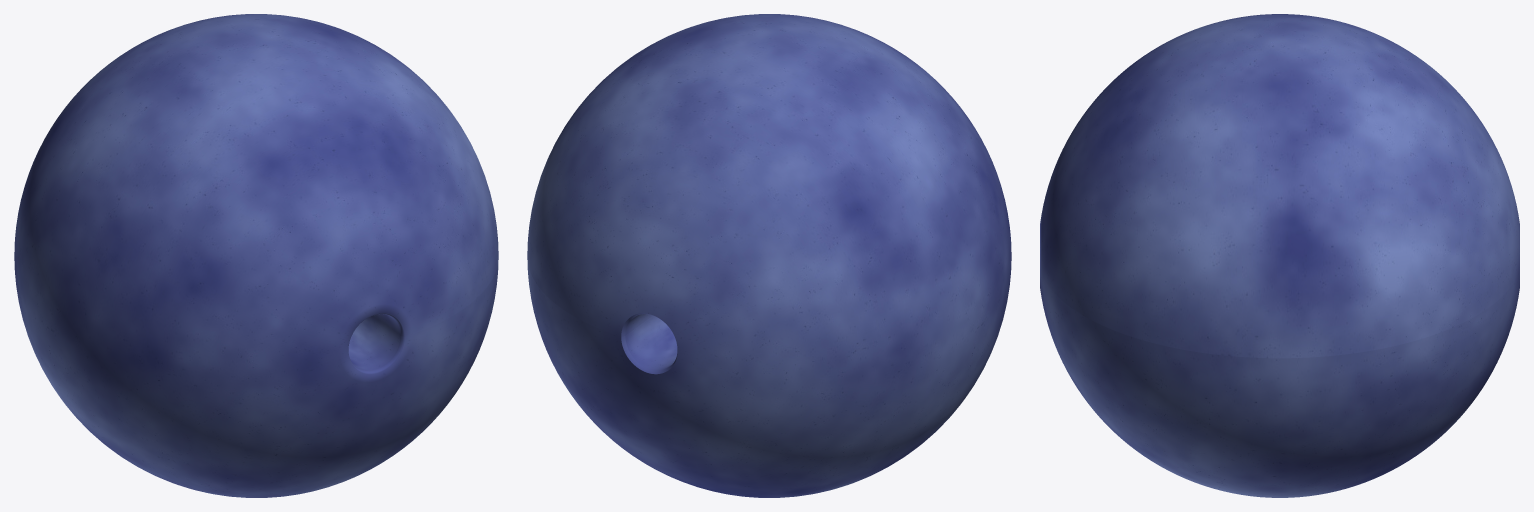
The model's file is tanzanite.glb.
3 renders of one model, left to right at view 1: azimuth 30°, elevation 25°; view 2: azimuth 150°, elevation 25°; view 3: azimuth 270°, elevation 25°, orthographic.
Parts seen in each view (by area): view 1: tanzanite.001; view 2: tanzanite.001; view 3: tanzanite.001.
Part boxes in pixels (x1,y1,x2,y2): tanzanite.001: [14, 14, 498, 497]; tanzanite.001: [527, 14, 1011, 497]; tanzanite.001: [1040, 14, 1519, 497].
Bounding box in the file's own units: 0.008 × 0.008 × 0.00793.
Materials: 2 (1 with a texture image).
